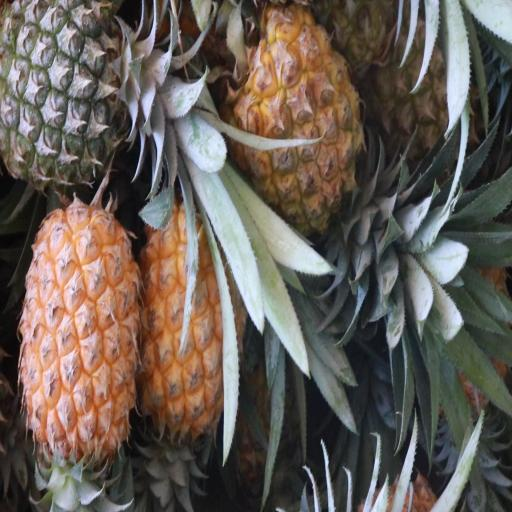------------------------------: (370, 5, 470, 165)
Pineapple - v8 v1: (25, 207, 140, 467), (229, 2, 361, 218), (140, 198, 234, 432)
